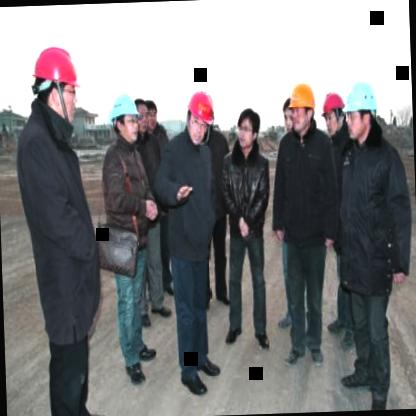head: (234, 104, 264, 157), (134, 97, 152, 140), (146, 98, 162, 137)
helmet: (33, 43, 79, 120), (342, 74, 379, 146), (106, 86, 140, 146), (184, 88, 218, 146), (286, 77, 318, 136), (319, 89, 346, 138)
